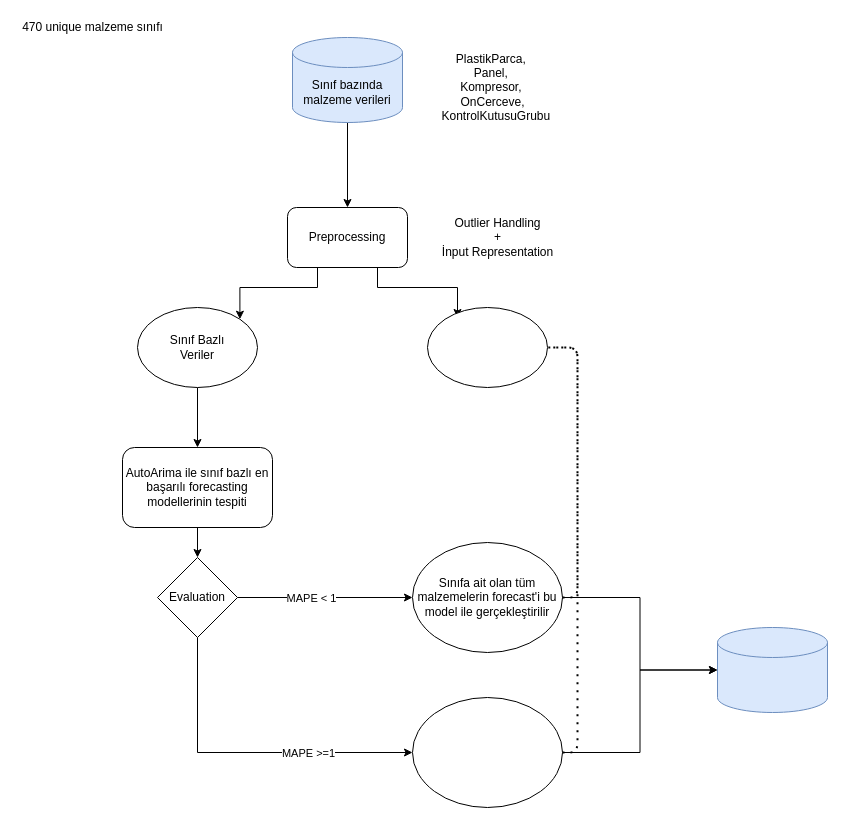
Some shapes in this 845 by 825 pixel diagram are drawn without their labels. The box of each missing label's shape, as (x1, y1, x2, y2) in pixels:
Her malzeme için AutoArima modelini tespit et ve tahminle.: (412, 696, 562, 808)
Malzeme Bazlı Veriler: (426, 306, 548, 388)
Sınıf bazlı sonuçları birleştir: (716, 626, 828, 712)
